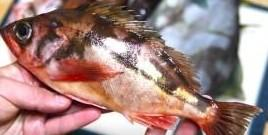fish: (0, 1, 258, 134)
